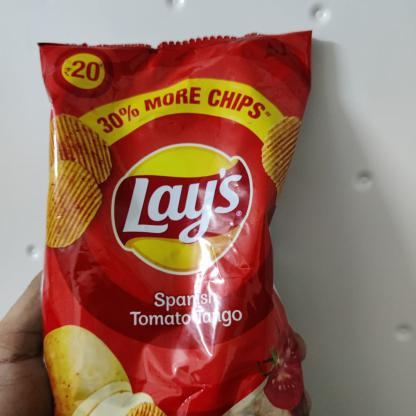tangy_tomato: (34, 33, 326, 415)
